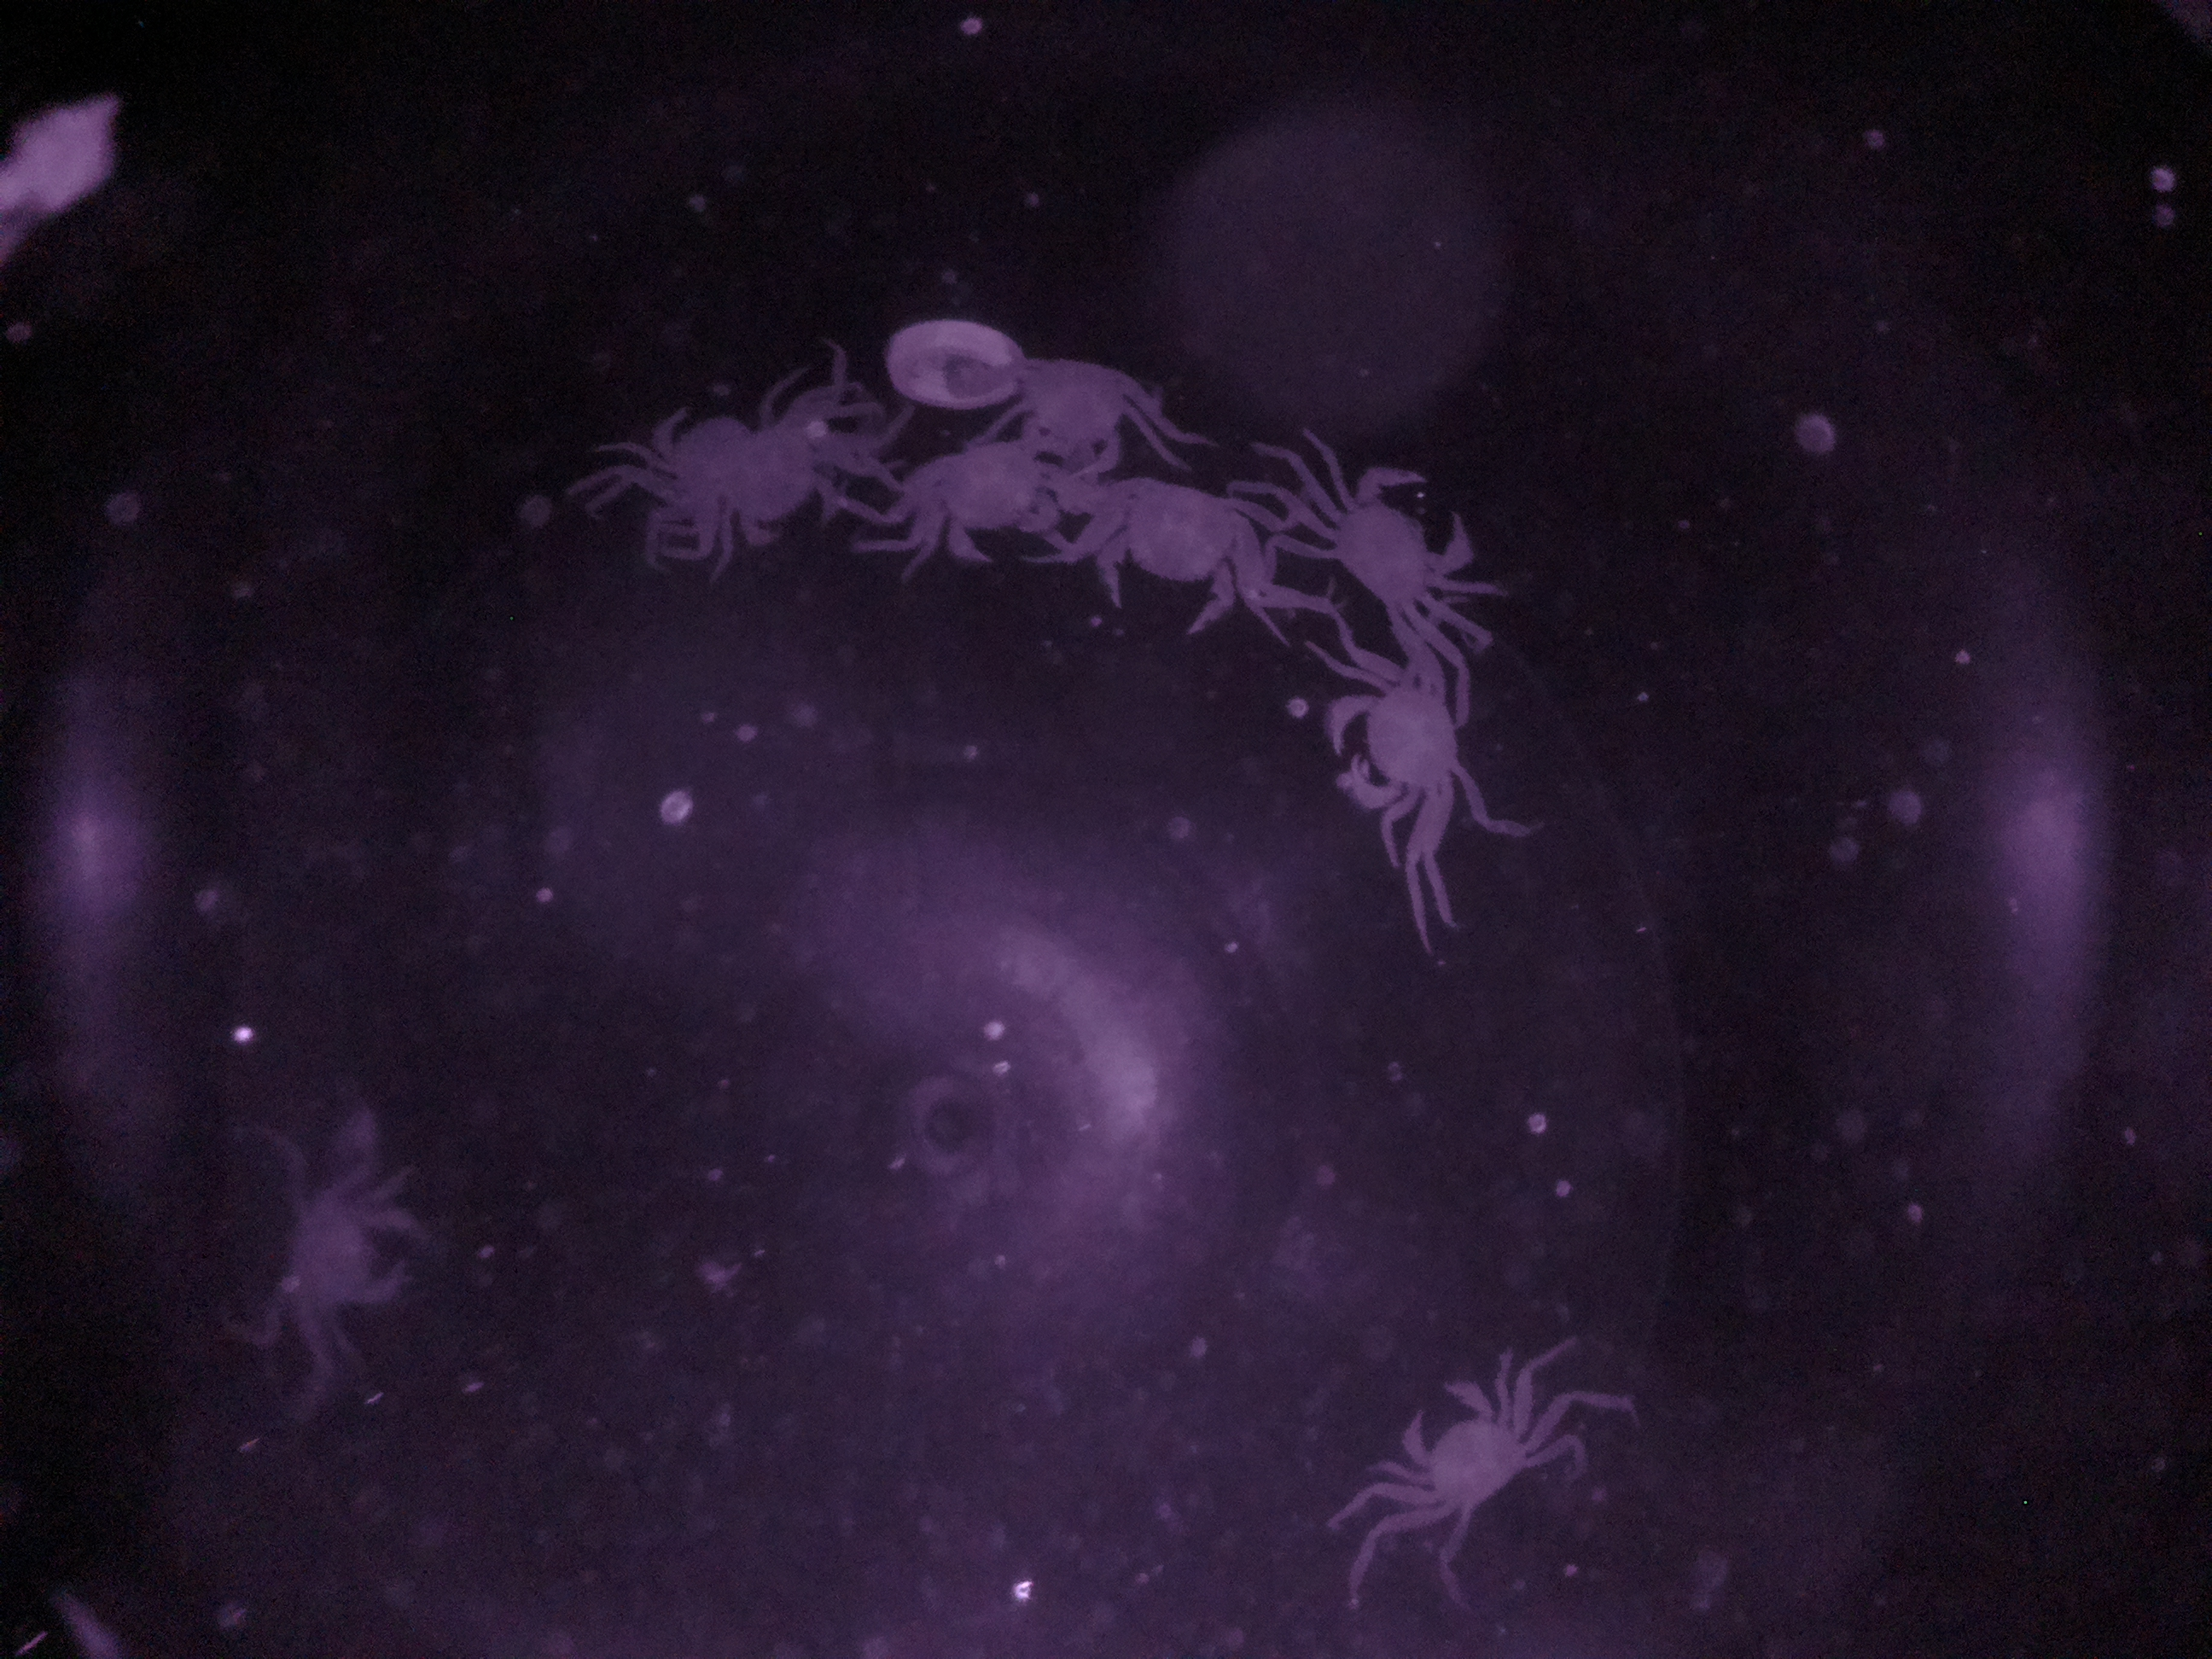Crab: (1069, 457, 1282, 664), (1308, 403, 1496, 627), (1308, 631, 1487, 859), (1369, 1344, 1550, 1551)
